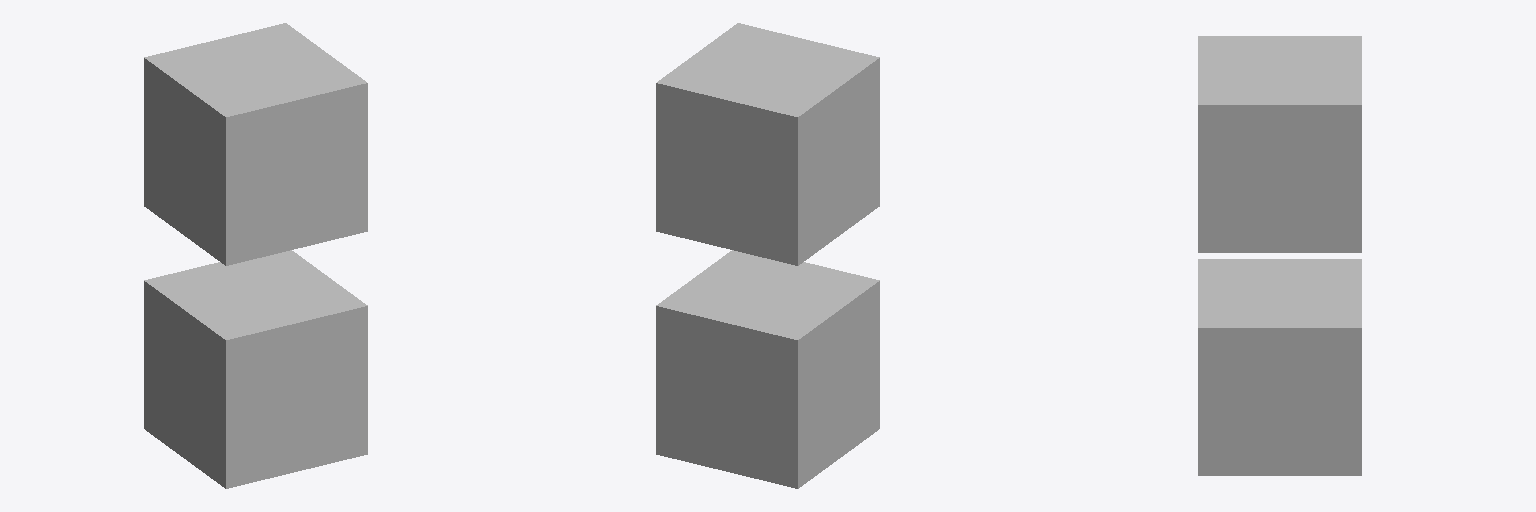
The model's file is two_cubes.obj.
3 views of the same model, side by side, from view 1: azimuth 30°, elevation 25°; view 2: azimuth 150°, elevation 25°; view 3: azimuth 270°, elevation 25° (orthographic).
Parts seen in each view (by area): view 1: Cube, Cube.001; view 2: Cube, Cube.001; view 3: Cube, Cube.001.
Part boxes in pixels (bbox=[...]): Cube: bbox=[144, 23, 367, 265]; Cube.001: bbox=[144, 250, 367, 488]; Cube: bbox=[656, 23, 879, 265]; Cube.001: bbox=[656, 250, 879, 488]; Cube: bbox=[1198, 36, 1361, 252]; Cube.001: bbox=[1198, 259, 1361, 475].
Size of the model in its own units: 2 by 5 by 2.